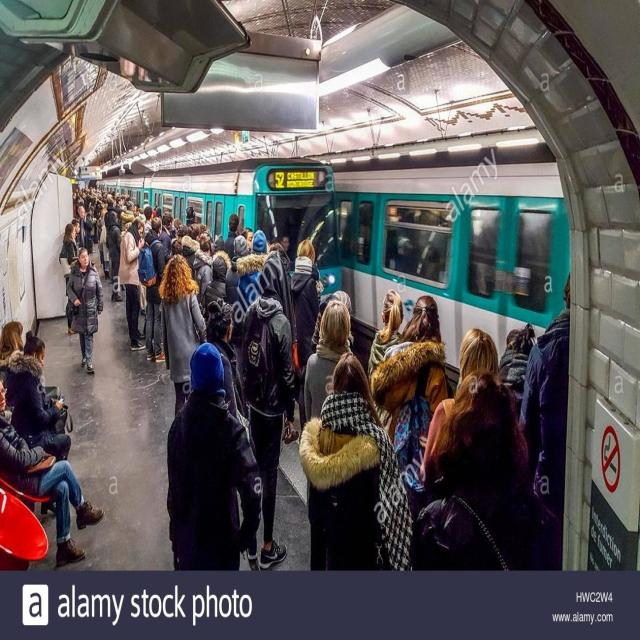body: (330, 190, 549, 314), (297, 349, 416, 570), (412, 368, 531, 571), (165, 342, 264, 572), (0, 368, 110, 569), (516, 270, 577, 565), (369, 293, 449, 514), (240, 249, 294, 573), (419, 325, 500, 488), (5, 330, 72, 464), (5, 328, 68, 461), (157, 252, 206, 422), (72, 179, 204, 241), (288, 236, 322, 452), (303, 298, 353, 435), (201, 294, 247, 415), (366, 288, 404, 434), (64, 244, 106, 376), (226, 233, 251, 419), (497, 322, 538, 426), (267, 242, 299, 371), (117, 215, 147, 352), (142, 216, 166, 366), (236, 229, 270, 324), (203, 249, 233, 329), (175, 220, 191, 354), (255, 206, 310, 241), (62, 222, 79, 335), (105, 211, 123, 309), (192, 229, 214, 307), (168, 210, 182, 332), (217, 211, 246, 254), (181, 222, 201, 271), (76, 204, 93, 256), (100, 212, 112, 282), (158, 211, 174, 263), (332, 288, 353, 316), (95, 210, 105, 267), (142, 205, 154, 240), (210, 234, 225, 259), (240, 226, 254, 252), (71, 218, 82, 250), (184, 205, 197, 227), (278, 233, 290, 252), (198, 222, 210, 239)
